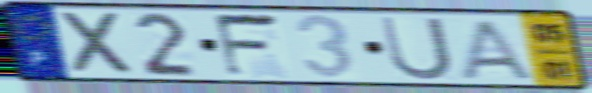2: (130, 10, 203, 79)
3: (293, 12, 360, 82)
A: (455, 17, 540, 82)
F: (210, 12, 284, 80)
U: (376, 14, 457, 83)
X: (56, 9, 139, 77)
